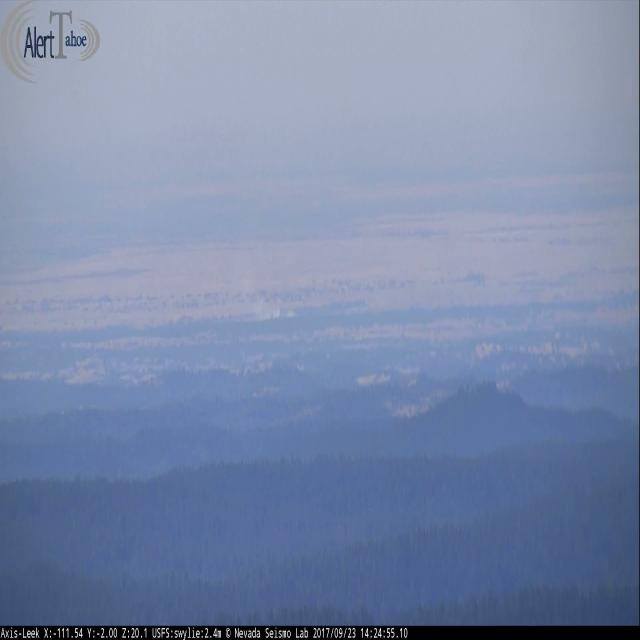smoke: (255, 295, 295, 317)
